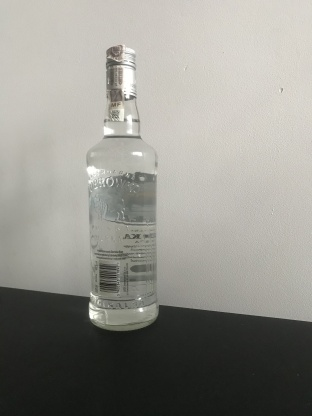nakretka: (104, 42, 138, 100)
